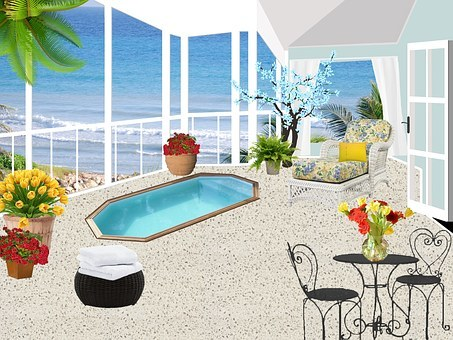chair: (283, 116, 397, 208), (284, 240, 363, 337), (384, 229, 451, 338)
diningtable: (331, 250, 421, 338)
pottedplant: (1, 167, 69, 252), (1, 226, 51, 280), (248, 134, 300, 176), (162, 132, 201, 177)
